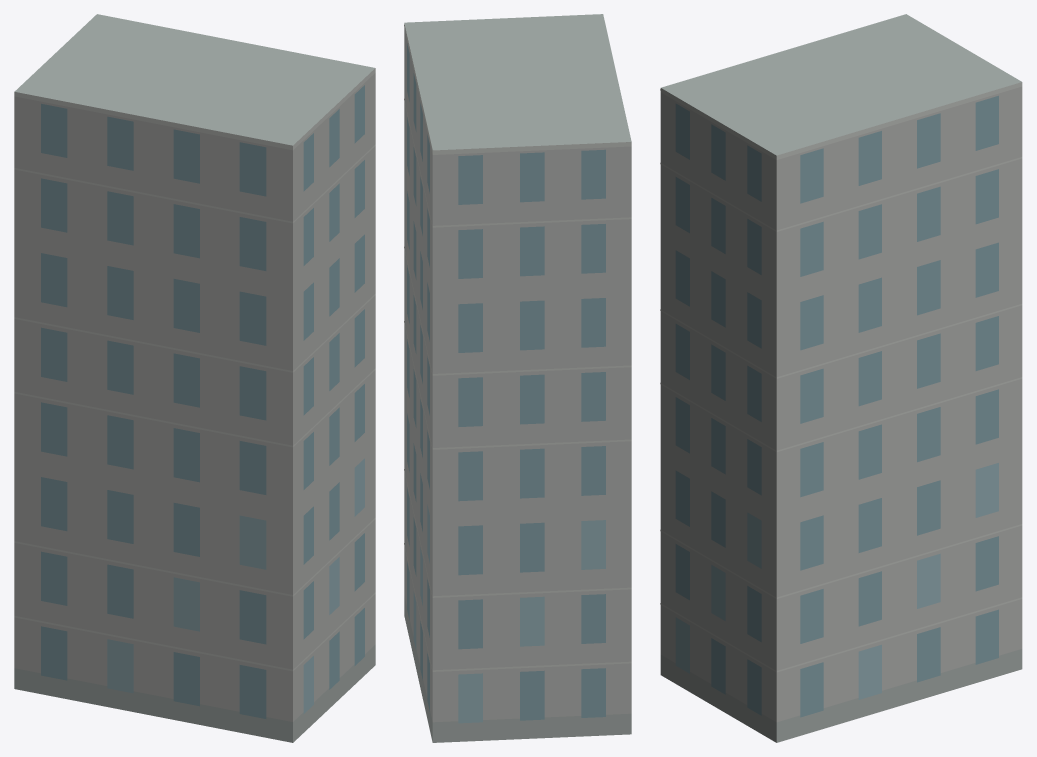
Rendered from survey-upis-32561302.glb.
3 views of the same model, side by side, from view 1: azimuth 30°, elevation 25°; view 2: azimuth 150°, elevation 25°; view 3: azimuth 270°, elevation 25° (orthographic).
Parts seen in each view (by area): view 1: survey-upis-32561302.tmp; view 2: survey-upis-32561302.tmp; view 3: survey-upis-32561302.tmp.
Part boxes in pixels (bbox=[...]): survey-upis-32561302.tmp: bbox=[14, 14, 375, 742]; survey-upis-32561302.tmp: bbox=[404, 14, 631, 742]; survey-upis-32561302.tmp: bbox=[660, 14, 1022, 742].
Bounding box in the file's own units: 16.26 × 31.4 × 17.55.
